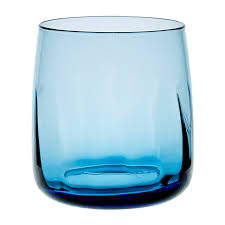glass: (26, 13, 200, 213)
